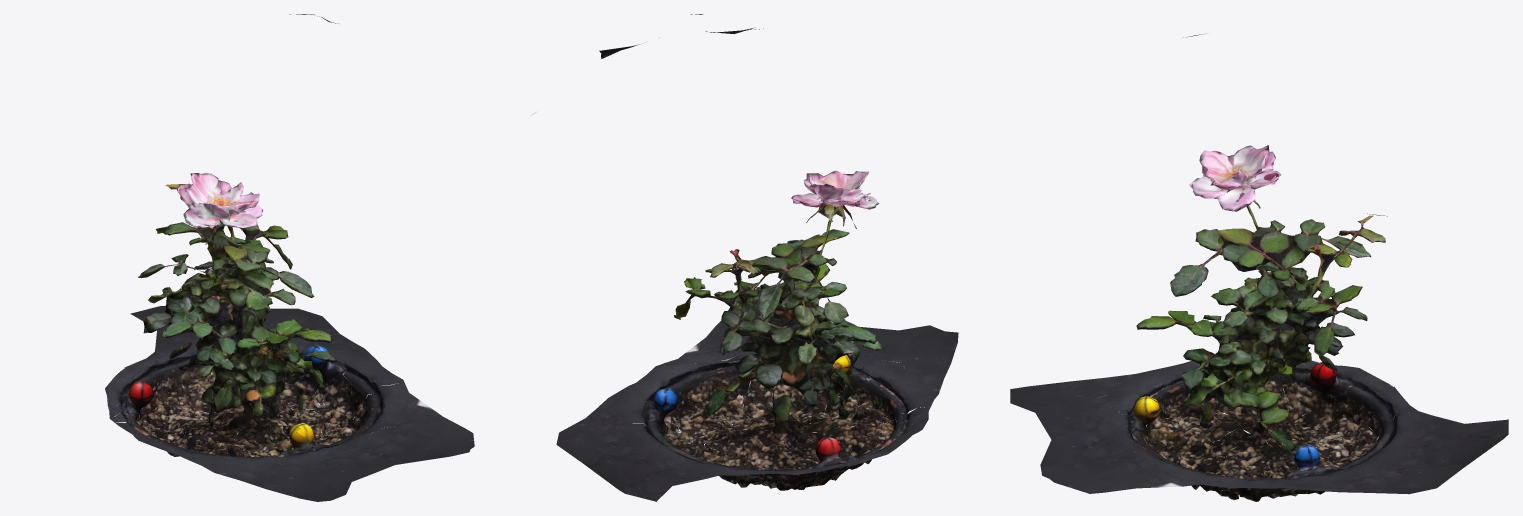
The model's file is 2023-07-20_13_better.gltf.
3 renders of one model, left to right at view 1: azimuth 30°, elevation 25°; view 2: azimuth 150°, elevation 25°; view 3: azimuth 270°, elevation 25°, orthographic. The views are drawn at different scales.
Visible parts, largest first — view 1: EA6871A9_158B_4BB2_BF16_46AB62F3B222; view 2: EA6871A9_158B_4BB2_BF16_46AB62F3B222; view 3: EA6871A9_158B_4BB2_BF16_46AB62F3B222.
Boxes of the visible parts, <box> form: EA6871A9_158B_4BB2_BF16_46AB62F3B222: <box>105,14,474,501</box>; EA6871A9_158B_4BB2_BF16_46AB62F3B222: <box>534,14,958,501</box>; EA6871A9_158B_4BB2_BF16_46AB62F3B222: <box>1010,33,1508,501</box>.
Size of what is drawn, in the model's own units: 1.41 by 1.16 by 1.48.
Materials: 1 (1 with a texture image).
